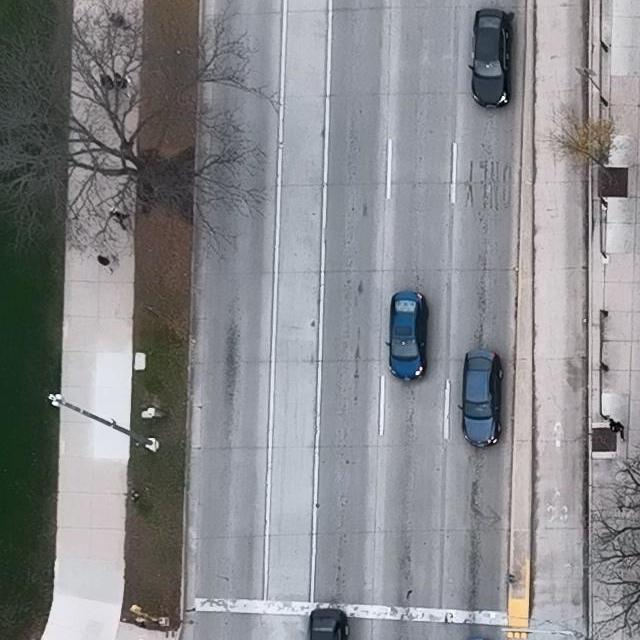car: (456, 349, 505, 448), (468, 9, 514, 109), (385, 290, 430, 382), (308, 608, 351, 640)
